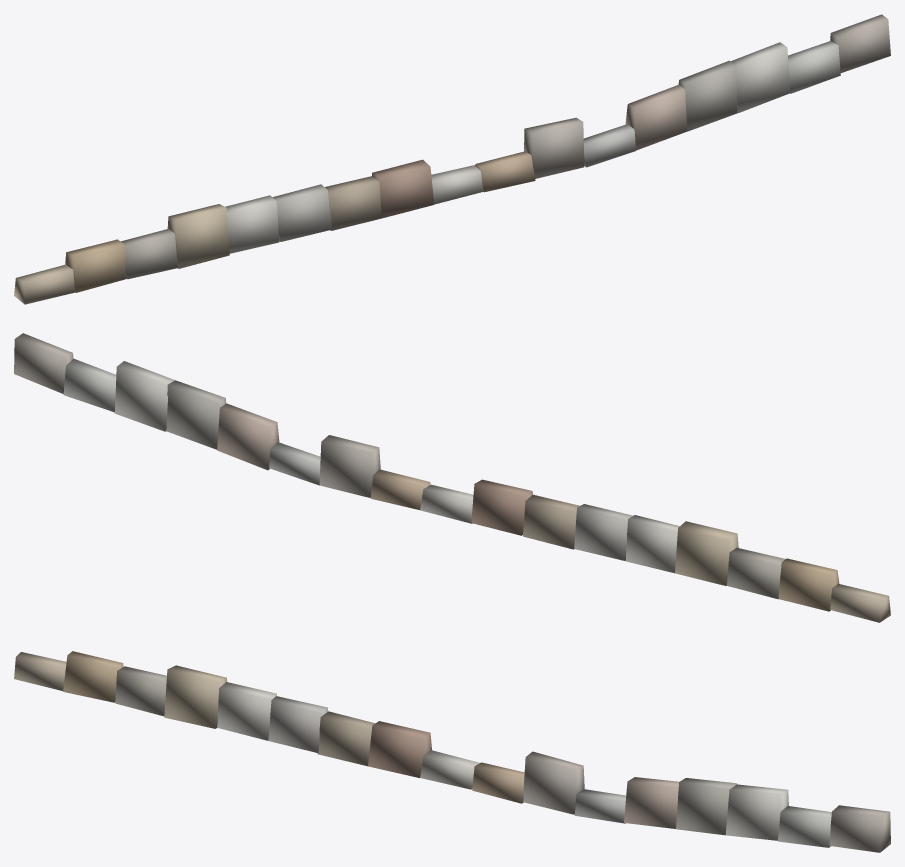
File: farm_7_4_far.glb
The picture shows the model from 3 angles, top to bottom: view 1: azimuth 30°, elevation 25°; view 2: azimuth 150°, elevation 25°; view 3: azimuth 330°, elevation 25°; orthographic projection.
Visible parts, largest first — view 1: geometry_0; view 2: geometry_0; view 3: geometry_0.
Boxes of the visible parts, x1=… form: geometry_0: x1=14, y1=14, x2=890, y2=304; geometry_0: x1=14, y1=333, x2=890, y2=622; geometry_0: x1=14, y1=651, x2=890, y2=852.
Size of the model in its own units: 27.03 by 2.17 by 0.7701.
